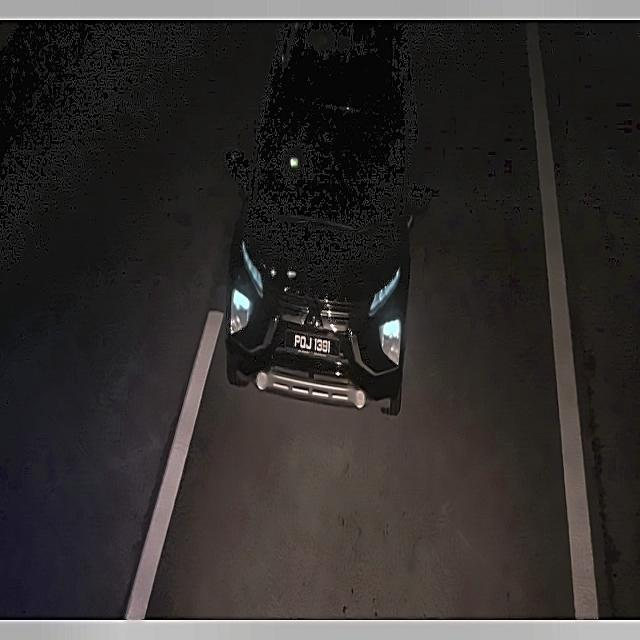car: (282, 324, 340, 359)
